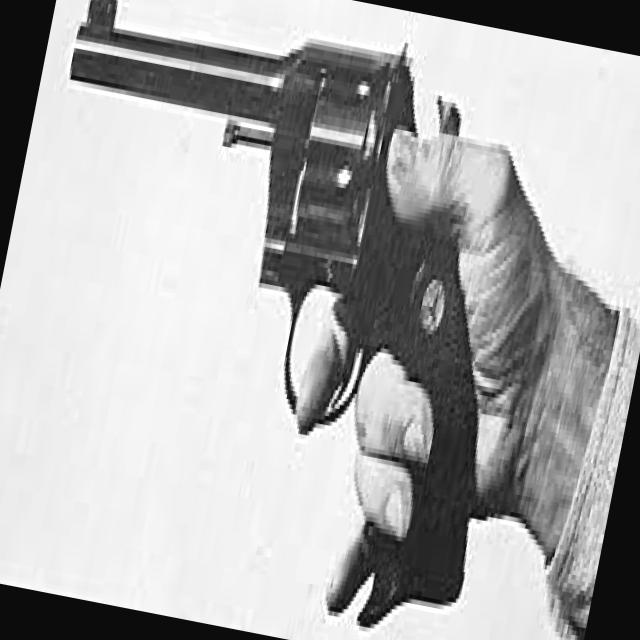handgun: (0, 0, 571, 623)
